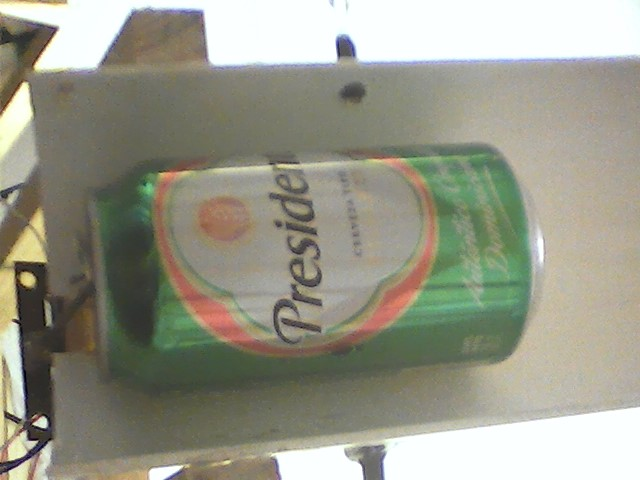lata: (78, 137, 550, 402)
